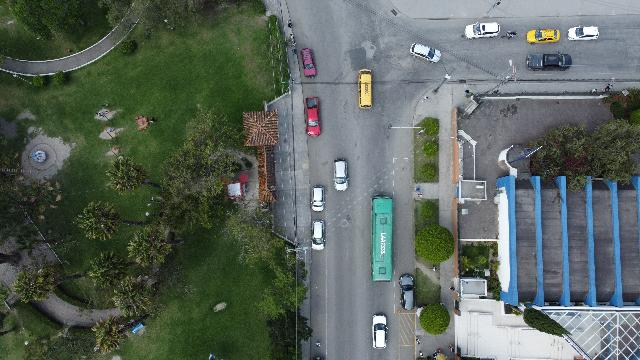Vehiculo: (526, 52, 572, 70), (464, 22, 500, 40), (305, 96, 321, 136), (410, 43, 440, 63), (358, 69, 372, 109), (372, 315, 388, 349), (400, 274, 414, 310), (526, 29, 560, 43), (334, 159, 348, 191), (568, 26, 598, 40), (302, 48, 316, 78), (312, 220, 324, 250), (312, 185, 324, 211)
